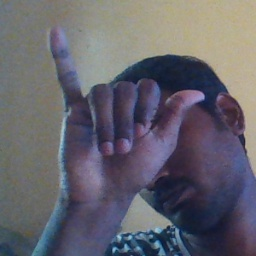J: (45, 25, 206, 196)
